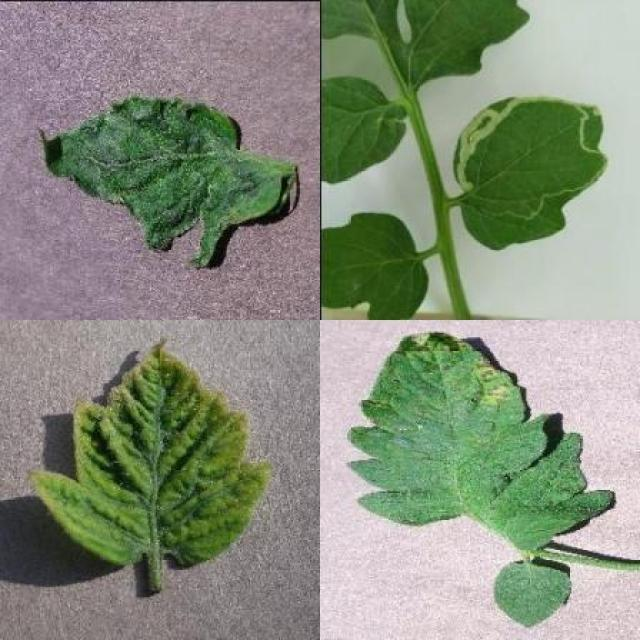Healthy: (495, 562, 572, 627)
Leaf Miner: (451, 95, 605, 252)
Mosaic Virus: (33, 95, 280, 271)
Septoria: (346, 330, 615, 547)
Yellow Leaf Curl Virus: (36, 338, 271, 568)
